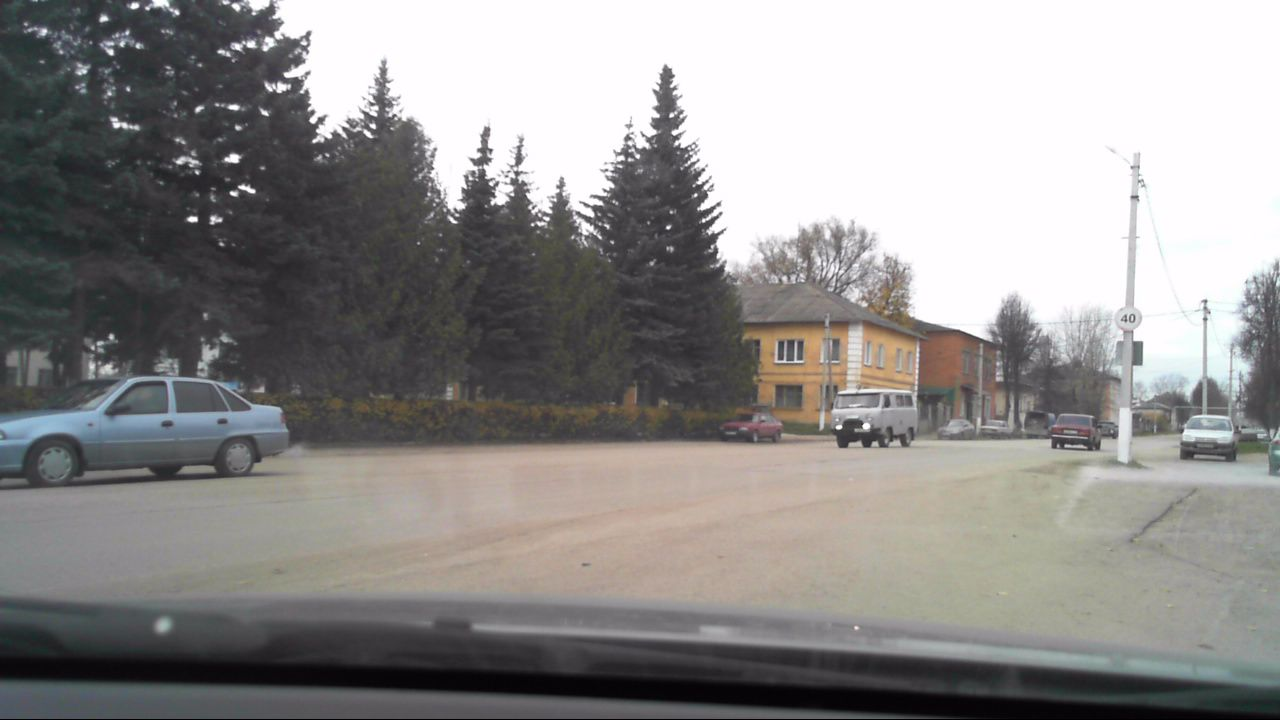speed_warning_40: (1113, 303, 1143, 332)
